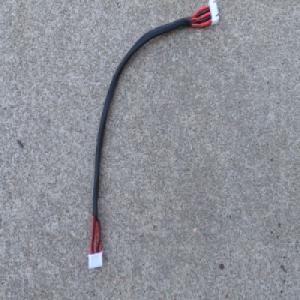Wire: (87, 0, 221, 272)
